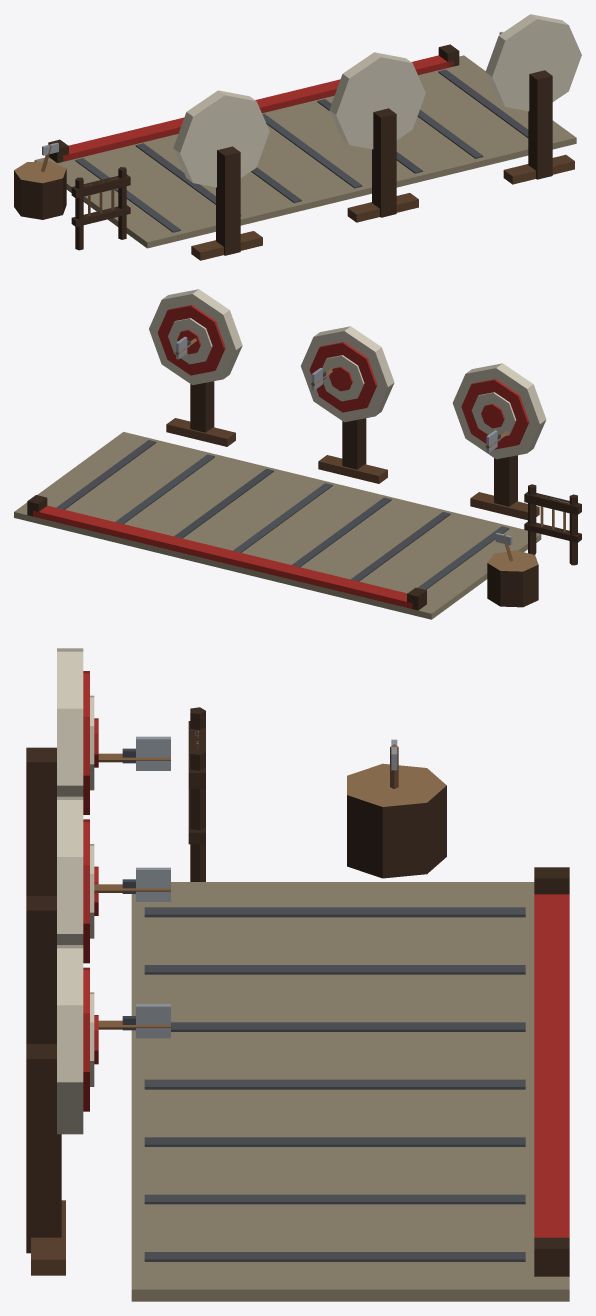
File: Decor_VikingLonghouse_AxeRange.fbx
3 views of the same model, one above another, from view 1: azimuth 30°, elevation 25°; view 2: azimuth 150°, elevation 25°; view 3: azimuth 270°, elevation 25° (orthographic). The views are drawn at different scales.
Visible parts, largest first — view 1: AxeRange_Body; view 2: AxeRange_Body; view 3: AxeRange_Body.
Boxes of the visible parts, <box> form: AxeRange_Body: <box>14,14,581,260</box>; AxeRange_Body: <box>14,289,581,619</box>; AxeRange_Body: <box>26,648,569,1301</box>.
Bounding box in the file's own units: 25.2 × 7.5 × 12.4.
